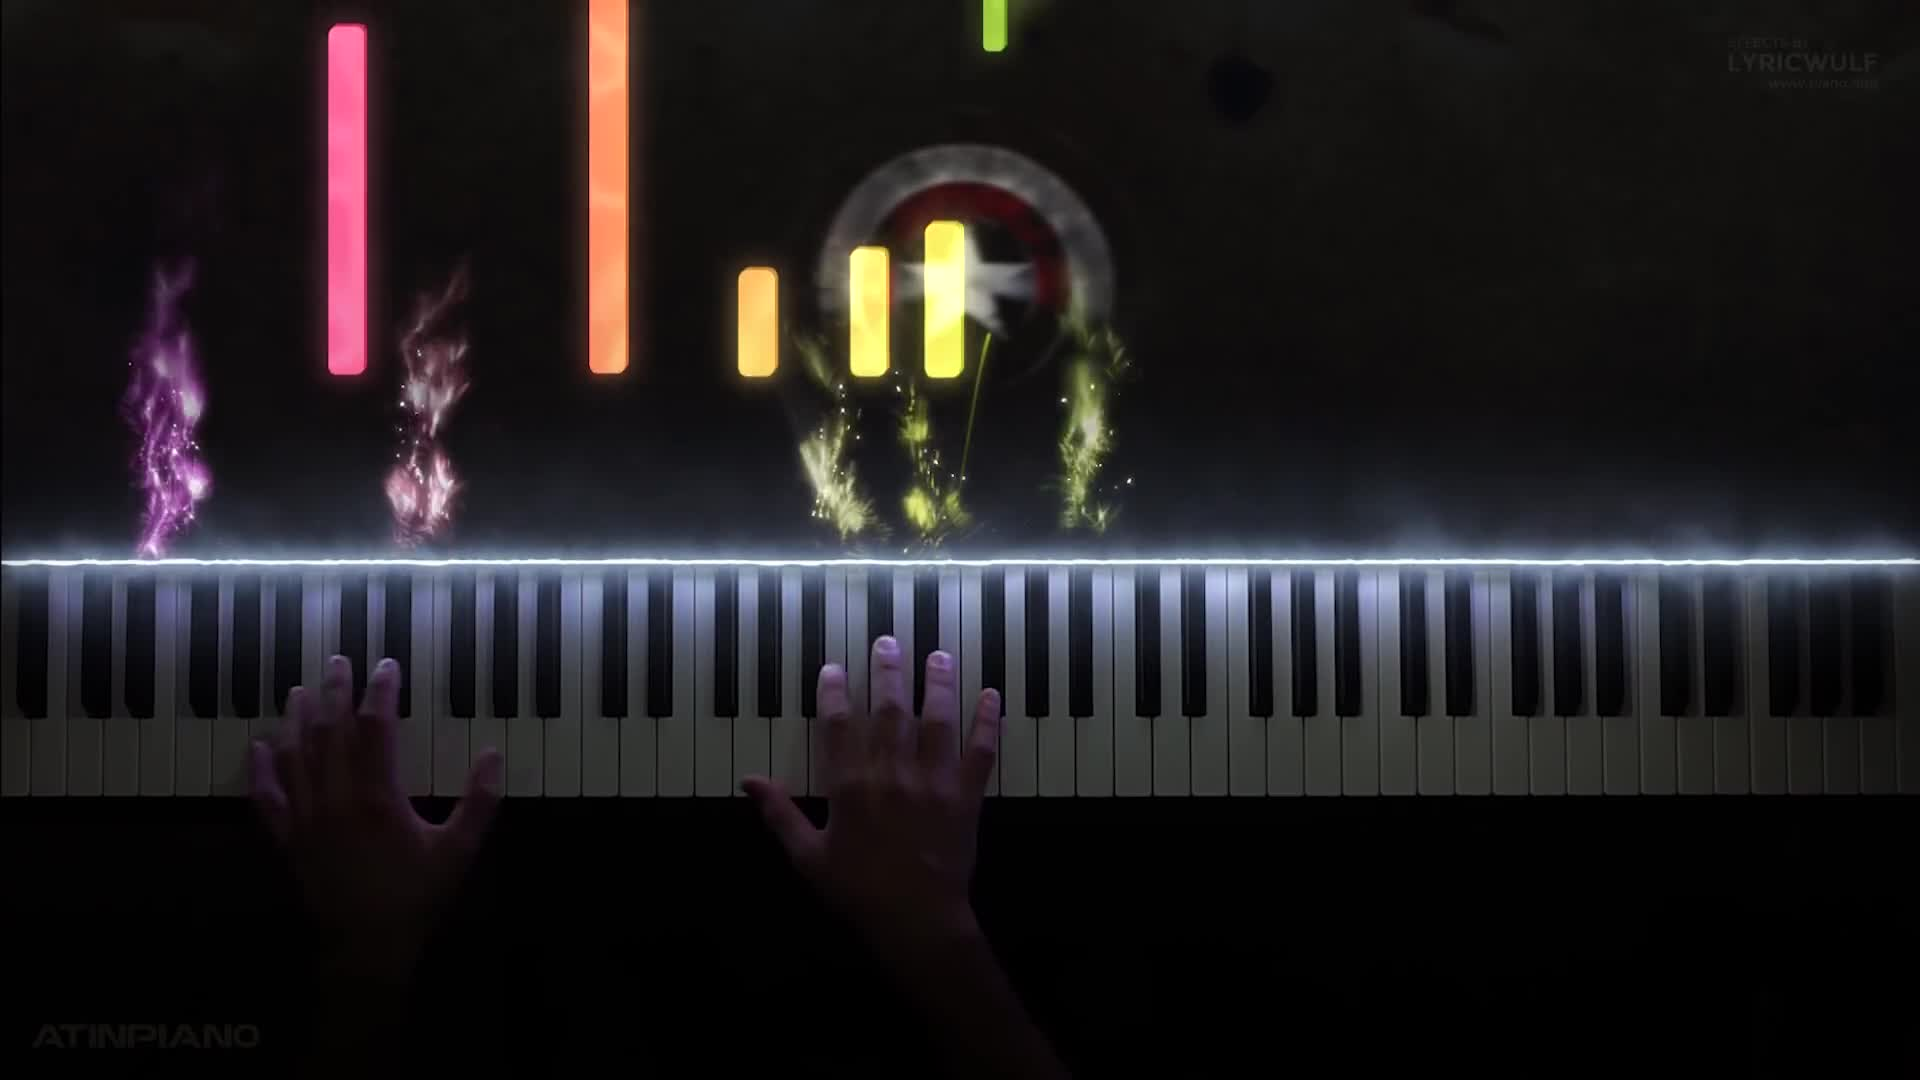left: (247, 647, 506, 910)
right: (735, 632, 1006, 915)
